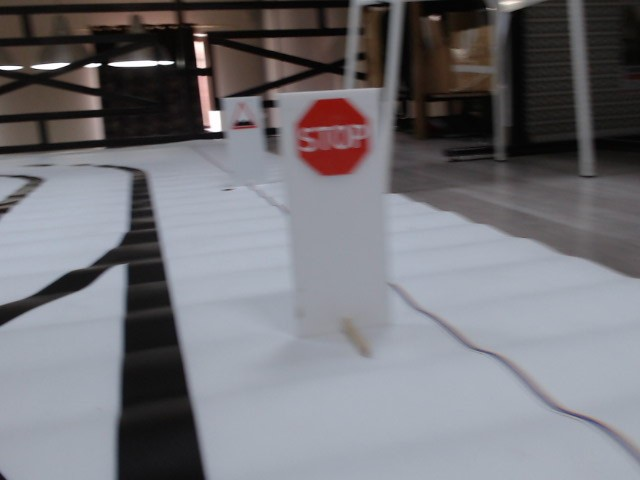Nerov: (231, 102, 260, 133)
Stop: (292, 98, 372, 176)
